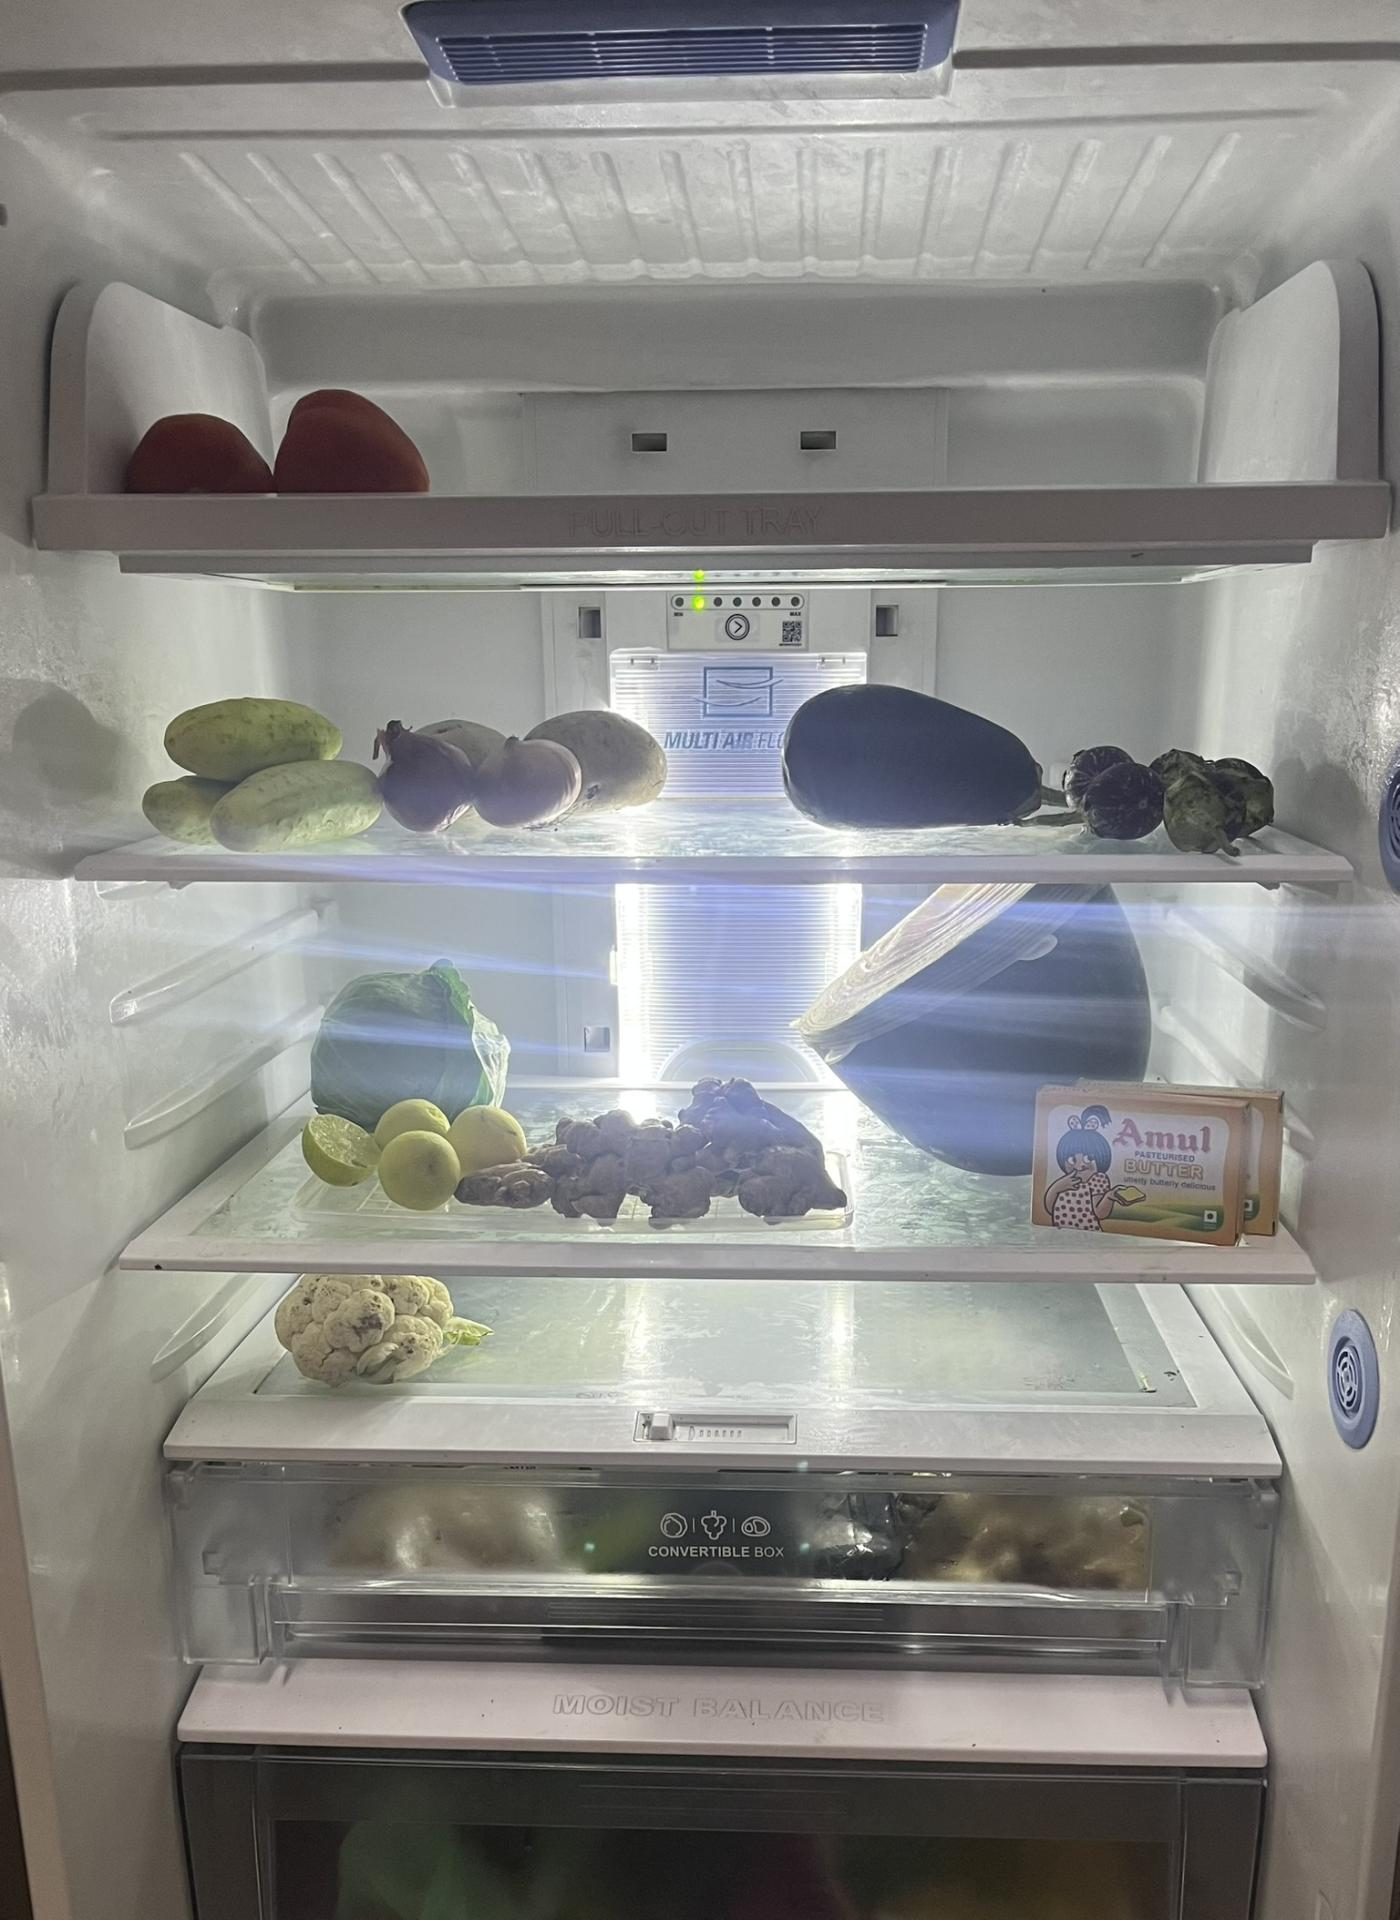butter: (1036, 1076, 1282, 1242)
cabbage: (313, 964, 516, 1120)
cauliflower: (279, 1273, 471, 1382)
cucumber: (139, 695, 395, 839)
ginger: (458, 1082, 839, 1216)
lemon: (303, 1099, 535, 1201)
onion: (370, 717, 583, 835)
potato: (434, 721, 663, 806)
tomato: (119, 371, 432, 489)
watermelon: (795, 885, 1154, 1181)
